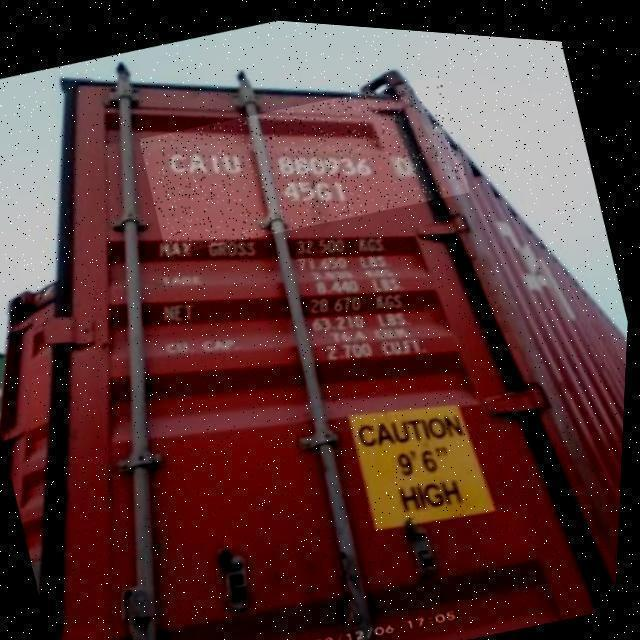ISO: (286, 179, 344, 206)
container_number: (162, 148, 420, 180)
